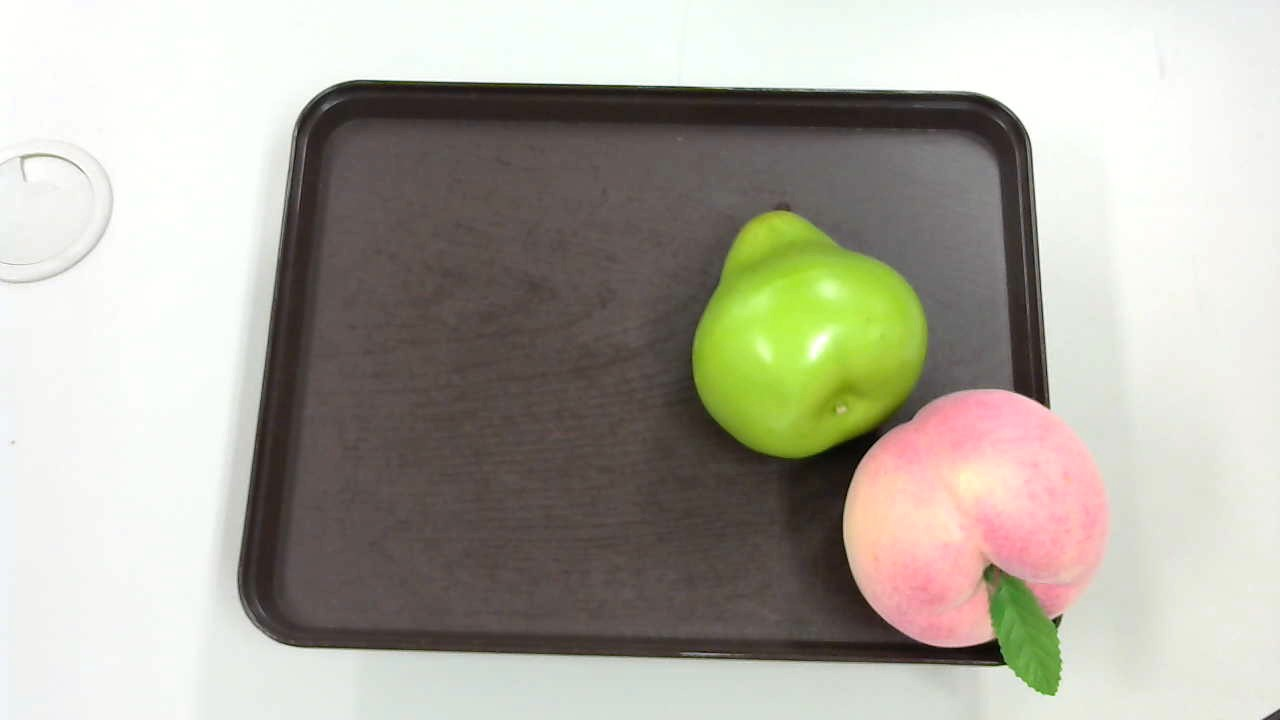green pear: (691, 195, 917, 460)
peach: (835, 393, 1112, 700)
